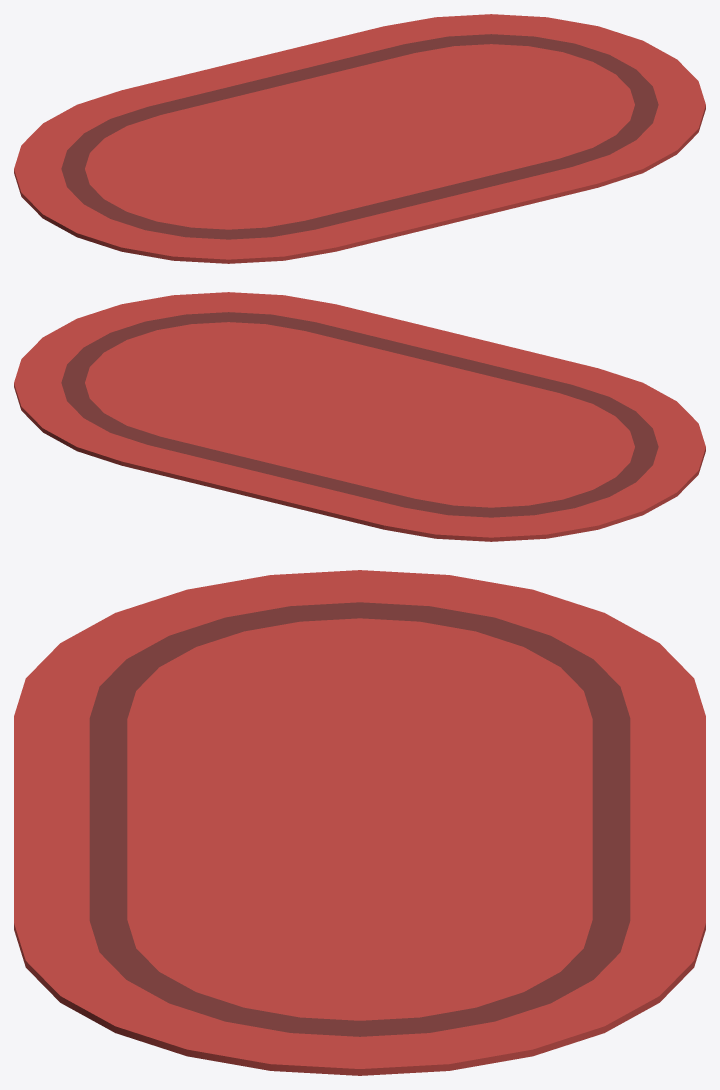
The model's file is furn_rugRounded.glb.
The picture shows the model from 3 angles, top to bottom: view 1: azimuth 30°, elevation 25°; view 2: azimuth 150°, elevation 25°; view 3: azimuth 270°, elevation 25°; orthographic projection. The views are drawn at different scales.
Visible parts, largest first — view 1: rugRounded(Clone); view 2: rugRounded(Clone); view 3: rugRounded(Clone).
Boxes of the visible parts, left/top/right/bottom form: rugRounded(Clone): left=14, top=14, right=705, bottom=263; rugRounded(Clone): left=14, top=292, right=705, bottom=541; rugRounded(Clone): left=14, top=570, right=705, bottom=1075.
Bounding box in the file's own units: 1.57 × 0.01 × 0.92.
